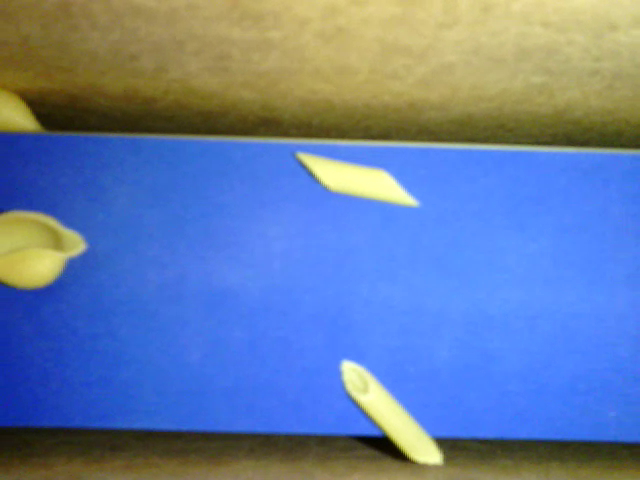penne: (340, 359, 446, 467), (295, 151, 418, 205)
shell: (1, 210, 89, 289)
